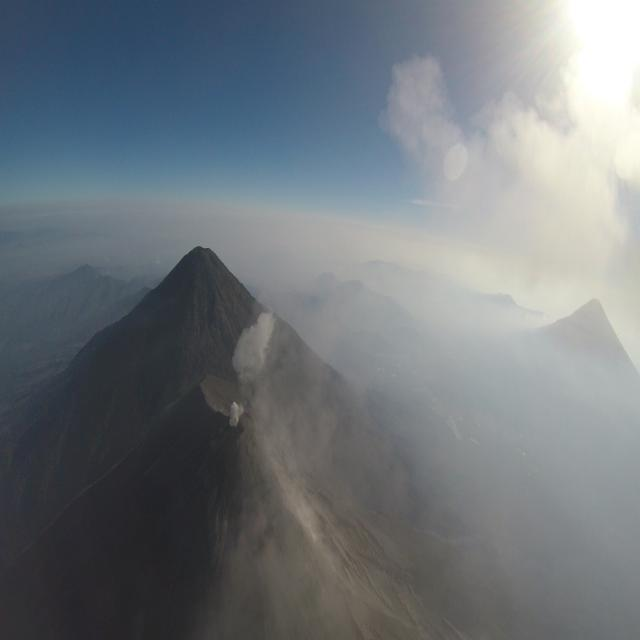Plume: (378, 35, 640, 265), (232, 306, 276, 390), (228, 398, 244, 431)
Summit: (226, 411, 264, 440)
